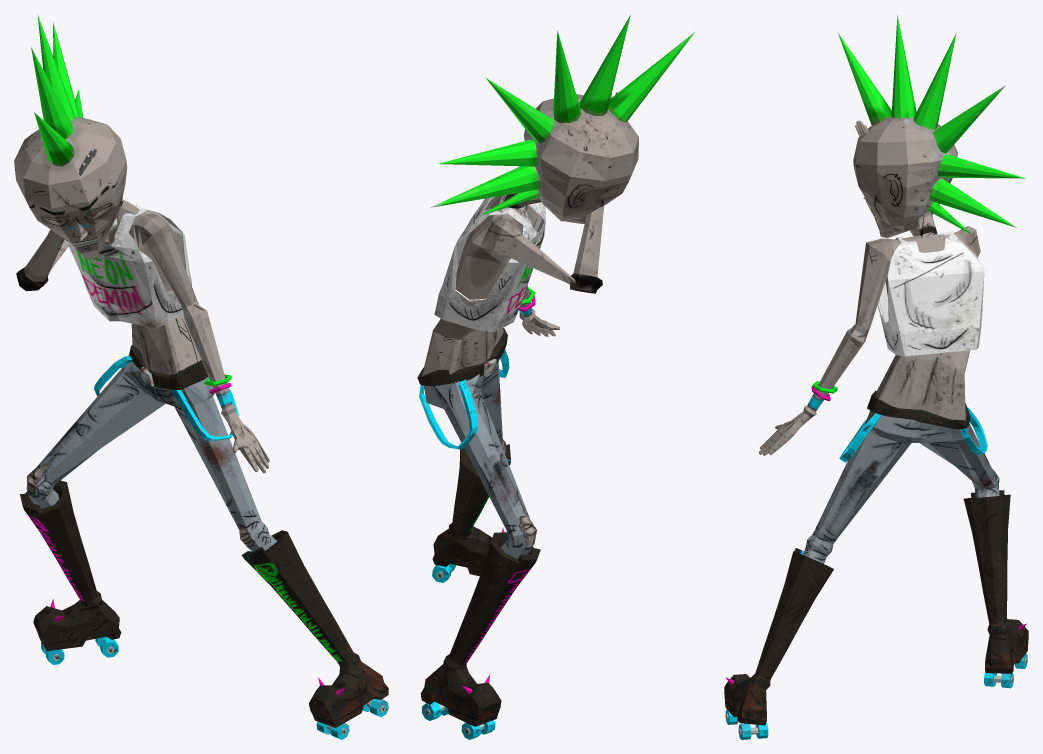
Rendered from punkAnimation_000031.obj.
3 views of the same model, side by side, from view 1: azimuth 30°, elevation 25°; view 2: azimuth 150°, elevation 25°; view 3: azimuth 270°, elevation 25° (orthographic). The views are drawn at different scales.
Parts seen in each view (by area): view 1: Cube.004_Cube.003; view 2: Cube.004_Cube.003; view 3: Cube.004_Cube.003.
Part boxes in pixels (<box>): Cube.004_Cube.003: <box>14,15,388,739</box>; Cube.004_Cube.003: <box>417,14,694,739</box>; Cube.004_Cube.003: <box>724,14,1028,739</box>.
Bounding box in the file's own units: 3.13 × 6.72 × 3.01.
